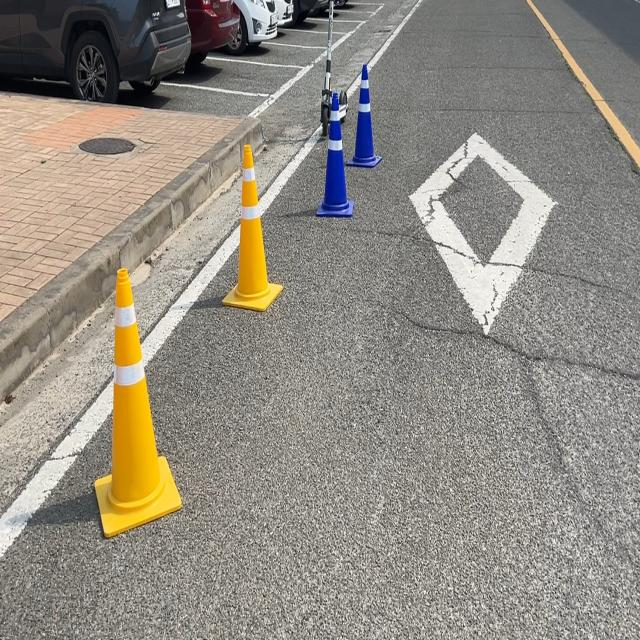b_rub: (317, 90, 354, 216), (347, 62, 382, 166)
y_rub: (94, 267, 182, 537), (222, 143, 283, 310)
